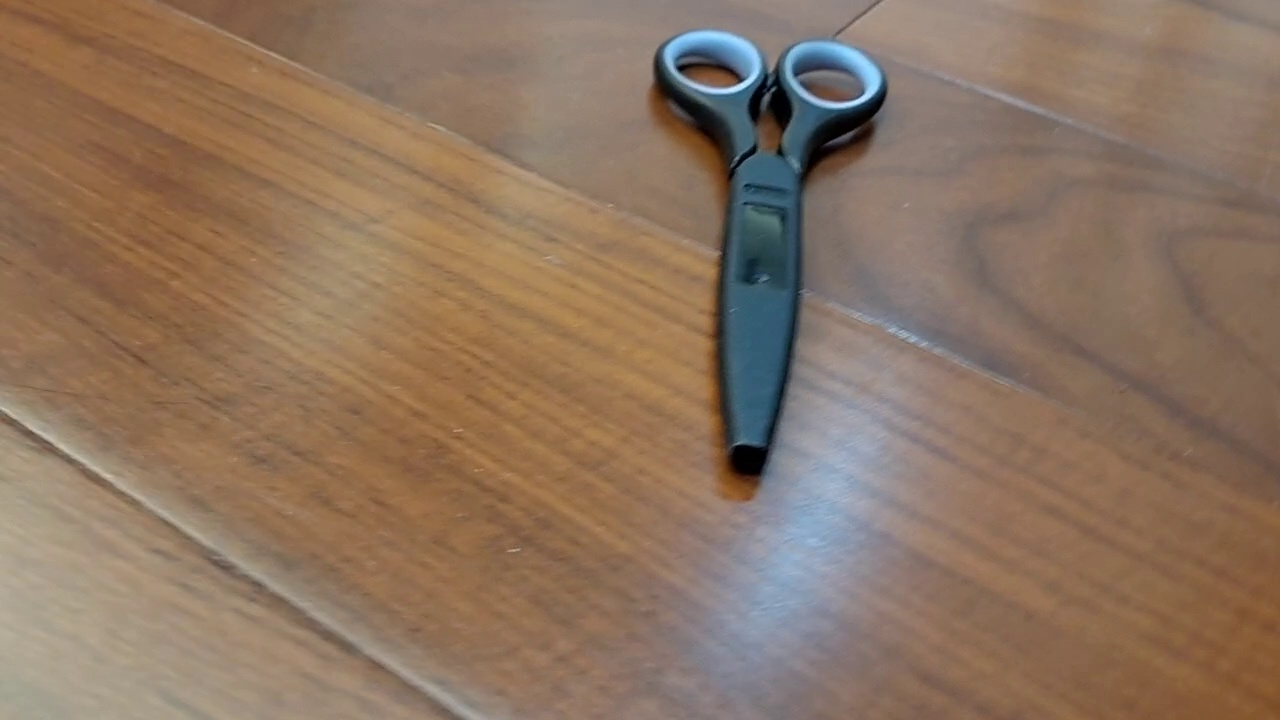scissors: (652, 26, 888, 477)
